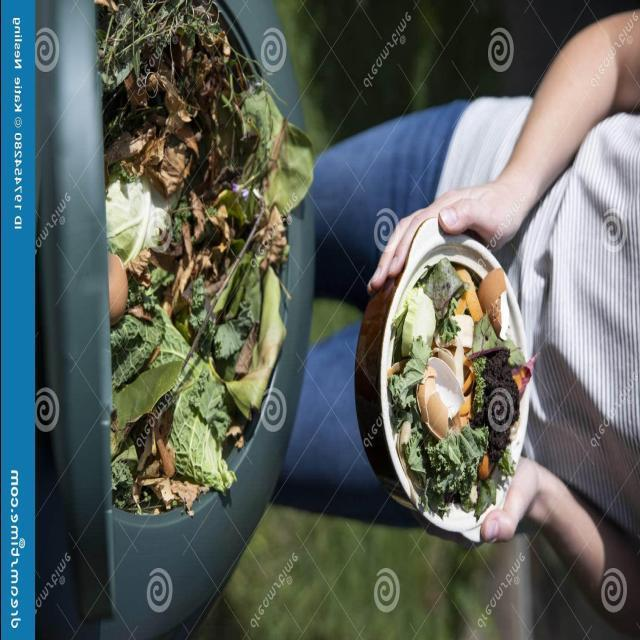Garbage: (77, 0, 295, 600)
